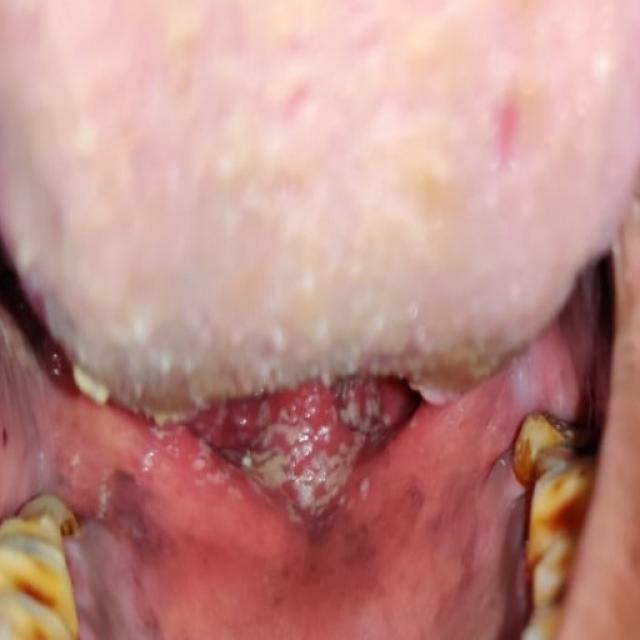leukoplakia-detection: (57, 312, 546, 541)
processing_area: (5, 229, 621, 639)
